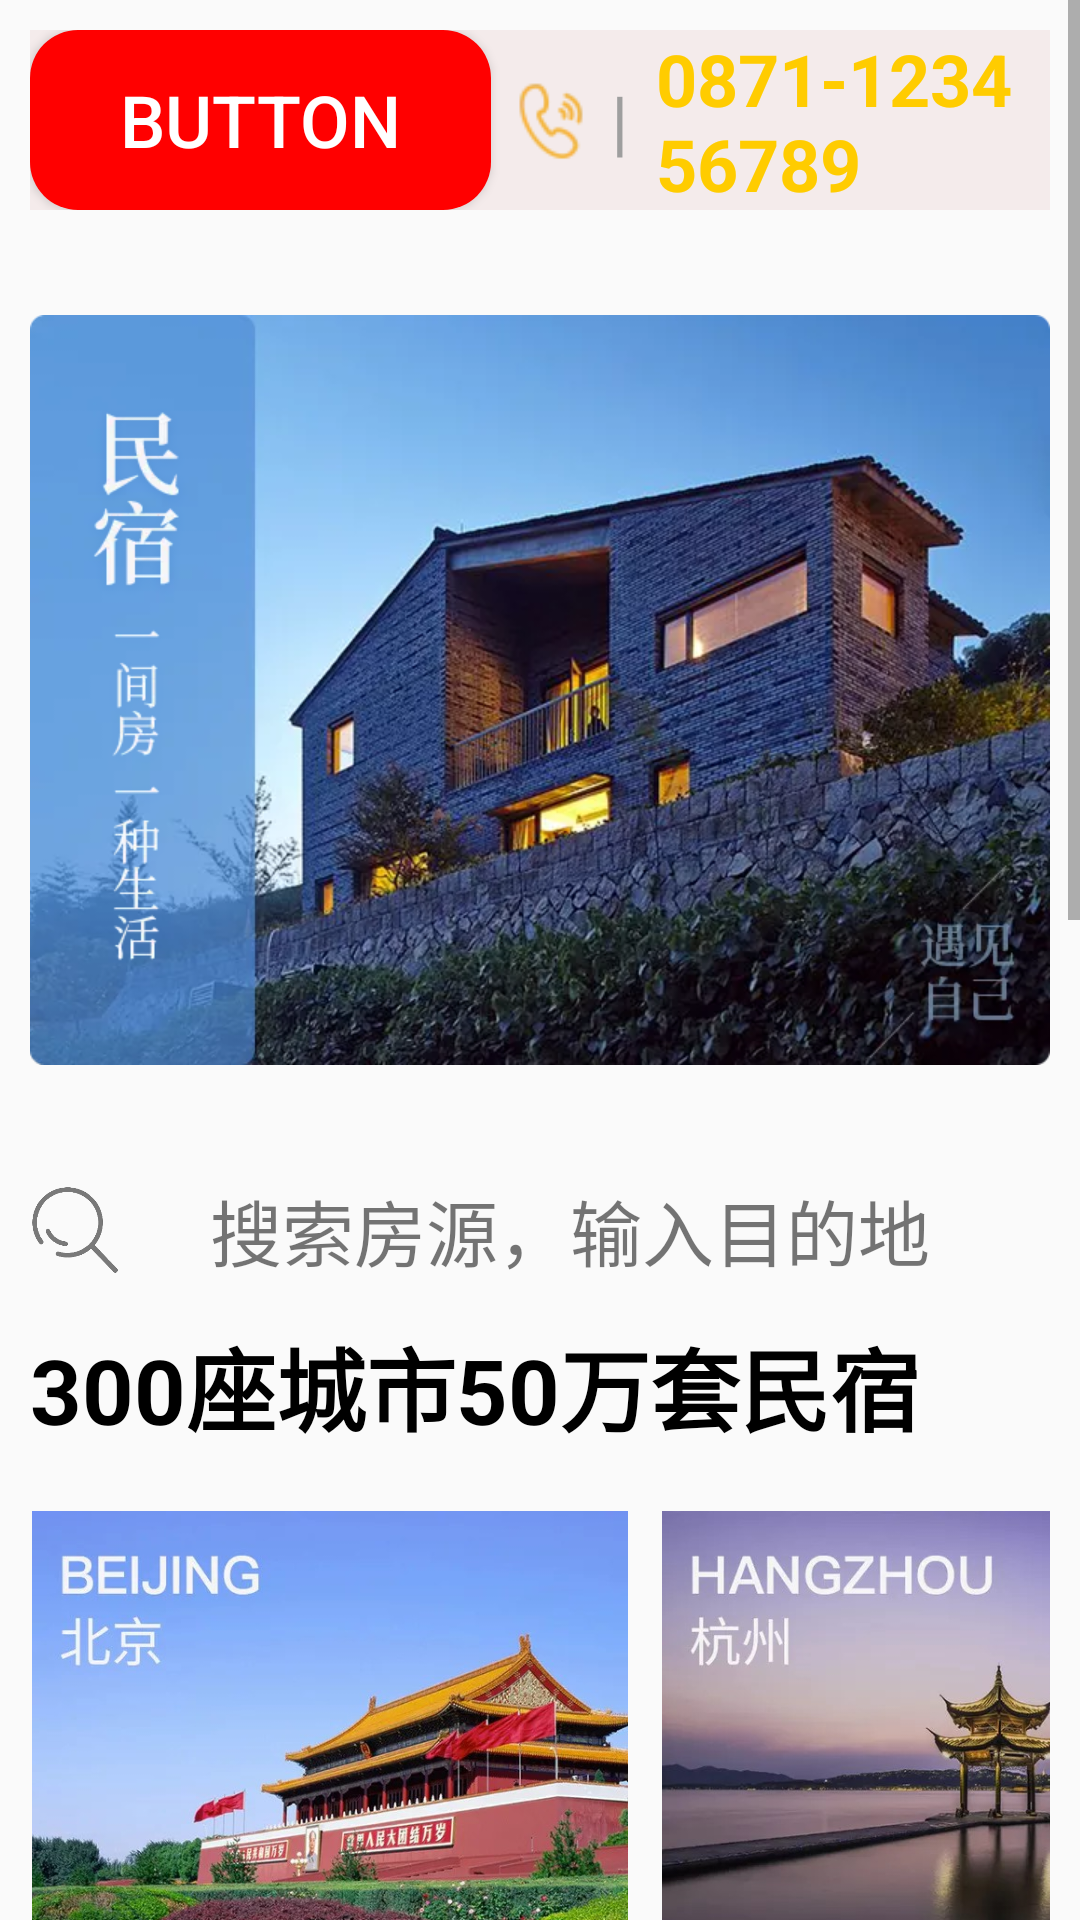

Locate icon controls on the screen. Image size 1080*1920, boxes as [x1, y1, x2, y2].
phone: [519, 83, 583, 159]
search: [32, 1187, 118, 1273]
